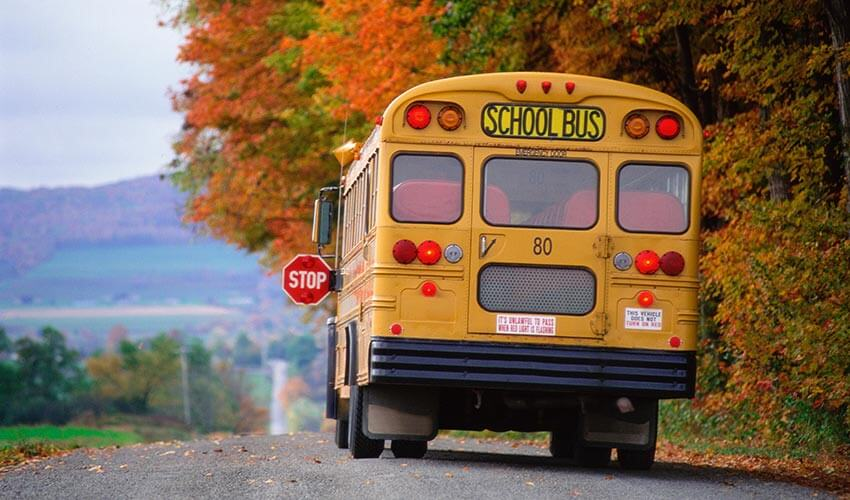Bus: (321, 61, 712, 475)
